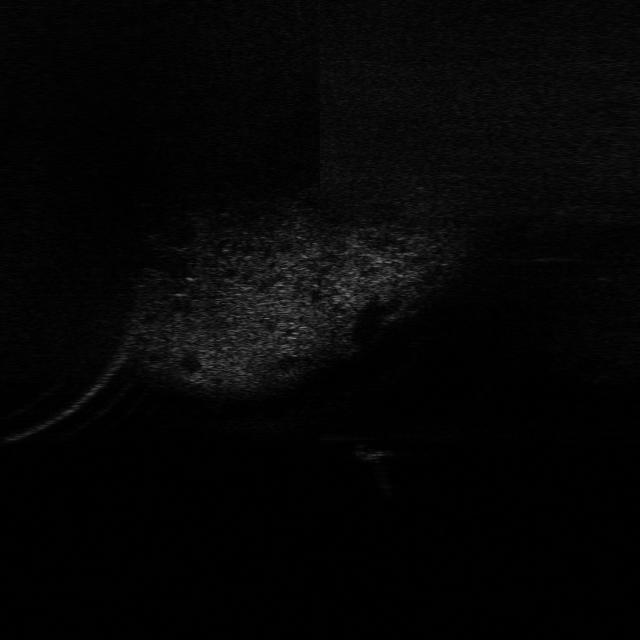cube: (350, 441, 396, 465)
